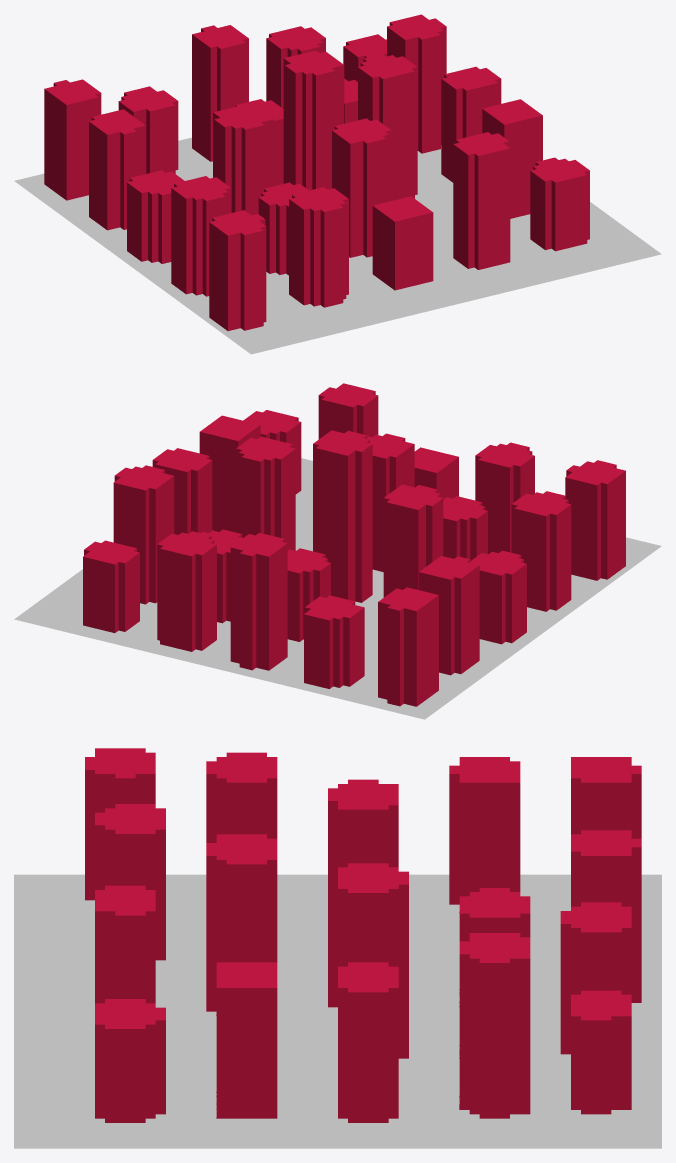
File: city.fbx
The picture shows the model from 3 angles, top to bottom: view 1: azimuth 30°, elevation 25°; view 2: azimuth 150°, elevation 25°; view 3: azimuth 270°, elevation 25°; orthographic projection. The views are drawn at different scales.
Parts seen in each view (by area): view 1: Plane; view 2: Plane; view 3: Plane.
Part boxes in pixels (x1,y1,x2,y2): Plane: (14,14,661,354); Plane: (14,383,661,719); Plane: (14,748,661,1148).
Bounding box in the file's own units: 4000 × 1405 × 4000.
